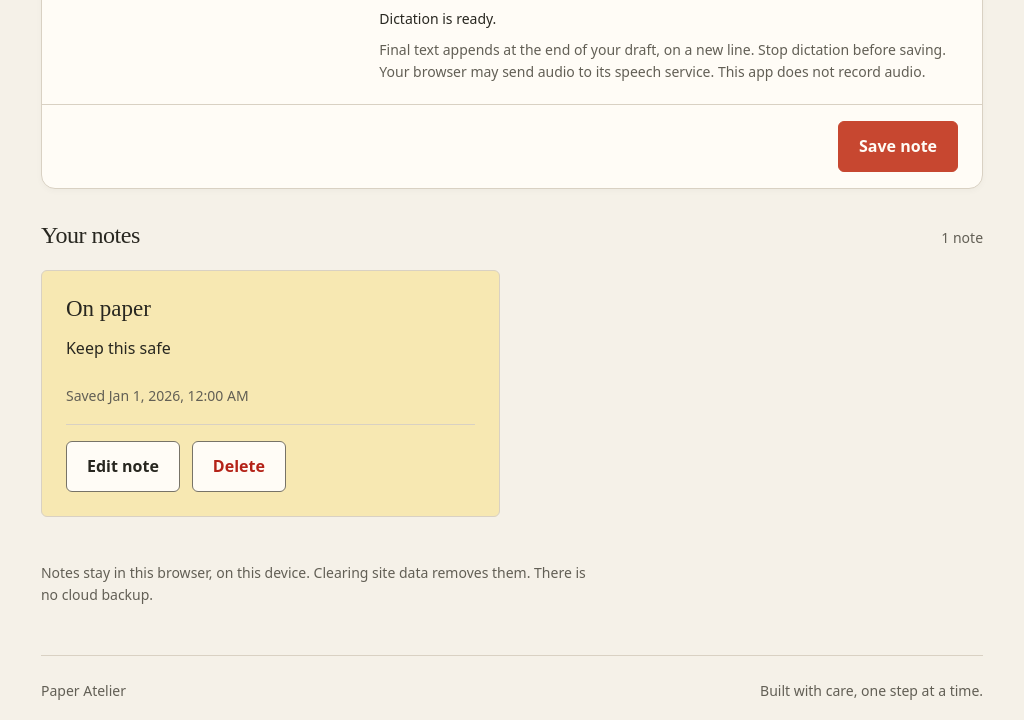
Test: supports title-only edits without duplicates
(page scrolled)
Click the button with aria-label "Edit note: On paper".
click(123, 466)  # box [66,441,180,492]
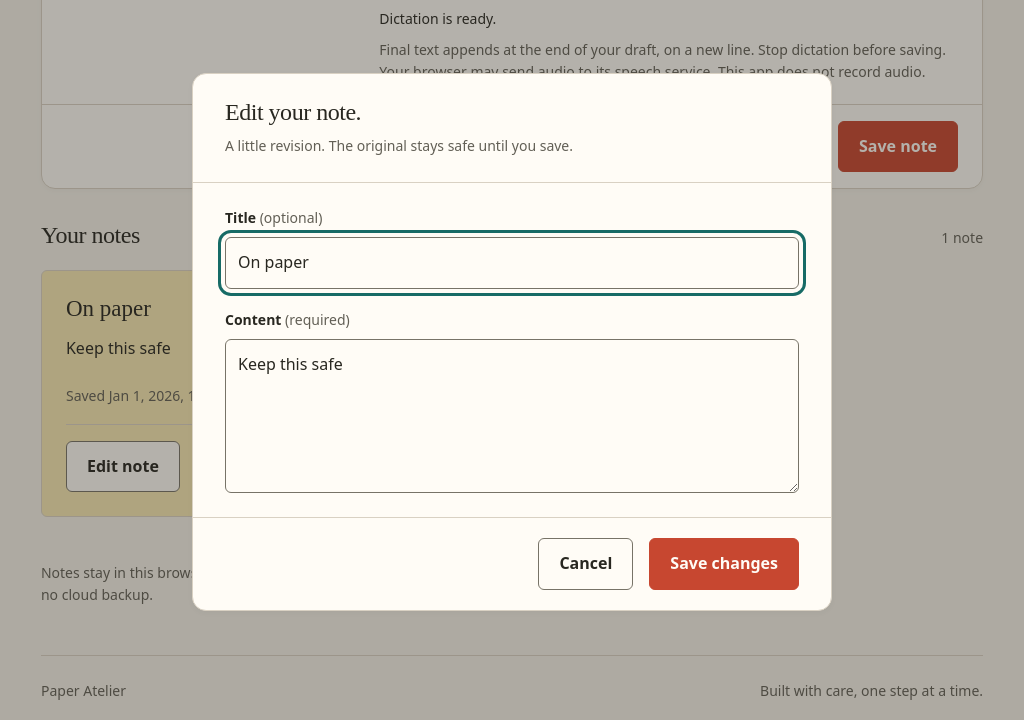
Replace the text in the field labelled "Title (optional)" with "Only this changes" at (512, 263), box [225,237,799,289]
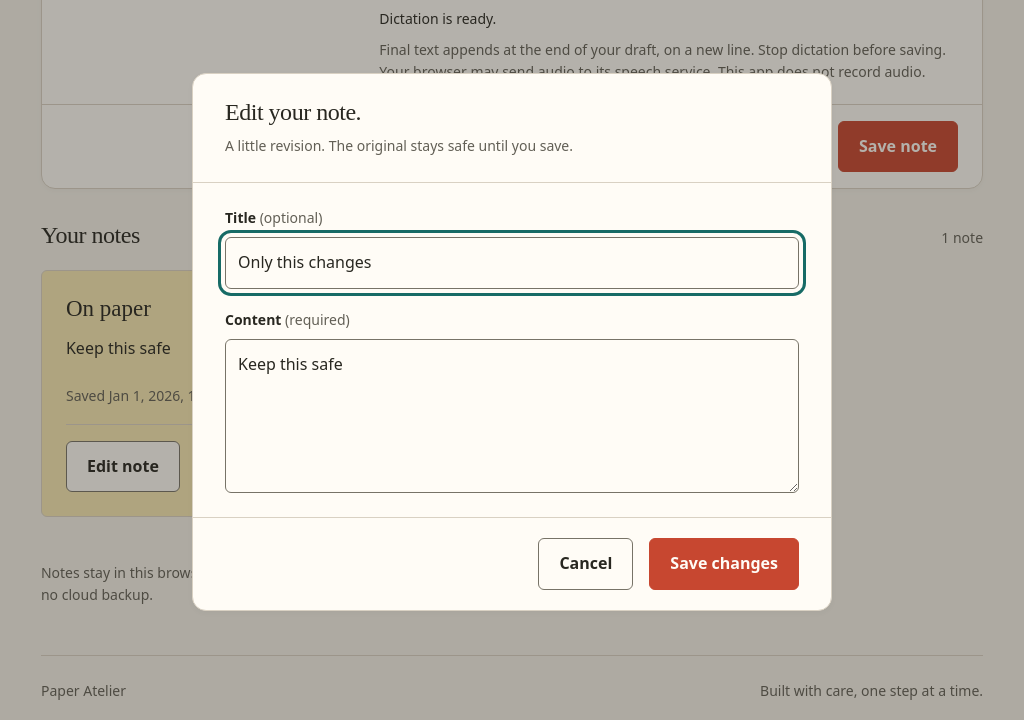
Click the button "Save changes".
click(724, 564)  # box [649,538,799,590]
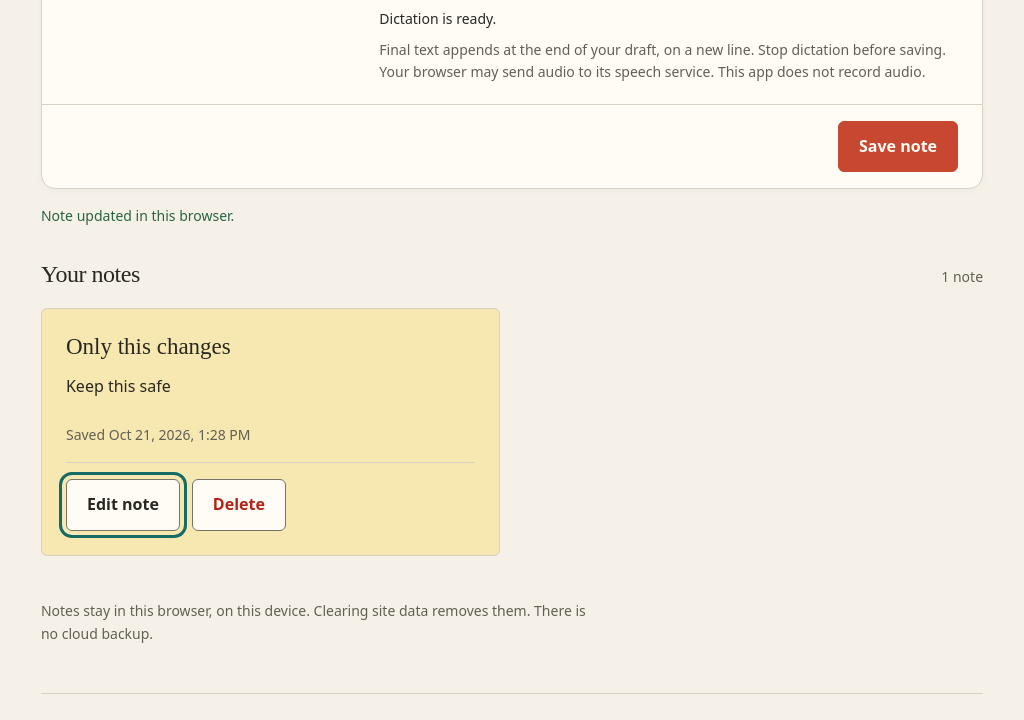
Expected: the text "Keep this safe" is shown, [66,375,171,397]
Expected: the heading "Only this changes" is shown, [66,334,231,359]
